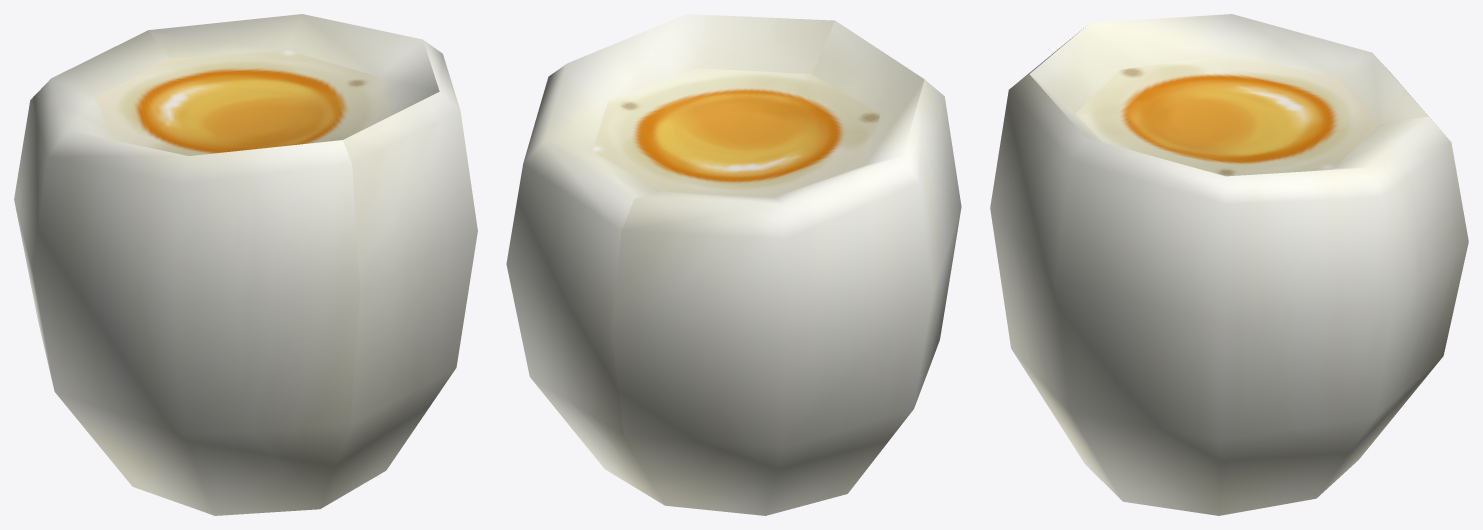
Rendered from SM_PROP_food_egg_02.FBX.
3 renders of one model, left to right at view 1: azimuth 30°, elevation 25°; view 2: azimuth 150°, elevation 25°; view 3: azimuth 270°, elevation 25°, orthographic. The views are drawn at different scales.
Parts seen in each view (by area): view 1: SM_PROP_food_egg_02; view 2: SM_PROP_food_egg_02; view 3: SM_PROP_food_egg_02.
Part boxes in pixels (box(x1,y1,x2,y2)): SM_PROP_food_egg_02: box(14, 14, 477, 515); SM_PROP_food_egg_02: box(506, 14, 961, 515); SM_PROP_food_egg_02: box(990, 14, 1468, 515).
Size of the model in its own units: 11.26 by 11.21 by 10.62.
